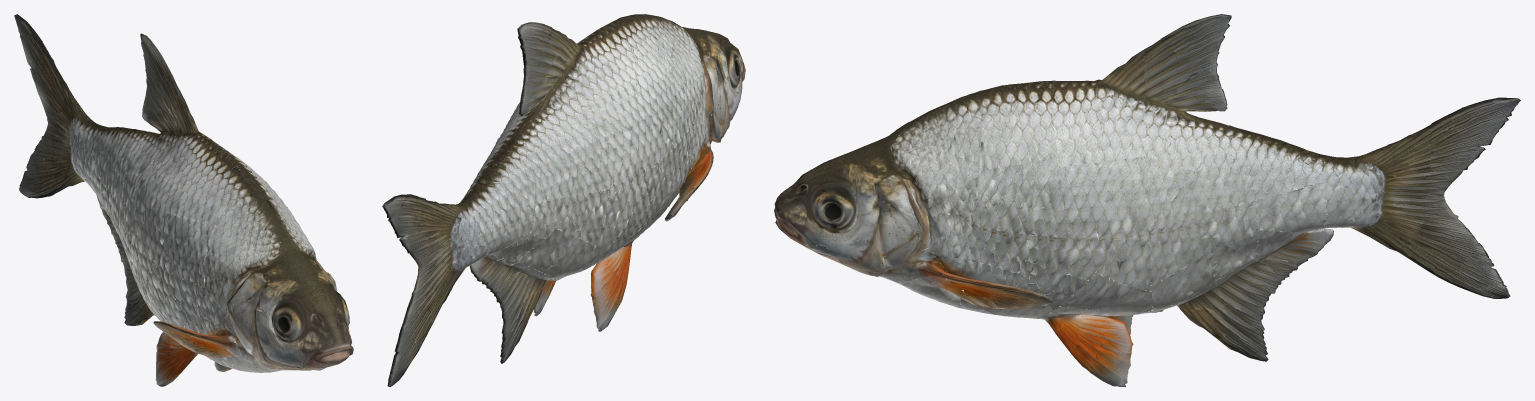
File: krap.glb
3 views of the same model, side by side, from view 1: azimuth 30°, elevation 25°; view 2: azimuth 150°, elevation 25°; view 3: azimuth 270°, elevation 25° (orthographic). The views are drawn at different scales.
Parts seen in each view (by area): view 1: Mesh_0; view 2: Mesh_0; view 3: Mesh_0.
Part boxes in pixels (x1,y1,x2,y2): Mesh_0: [14, 14, 353, 386]; Mesh_0: [382, 14, 745, 386]; Mesh_0: [774, 14, 1520, 386].
Bounding box in the file's own units: 0.4668 × 1 × 1.9.
Materials: 1 (1 with a texture image).
